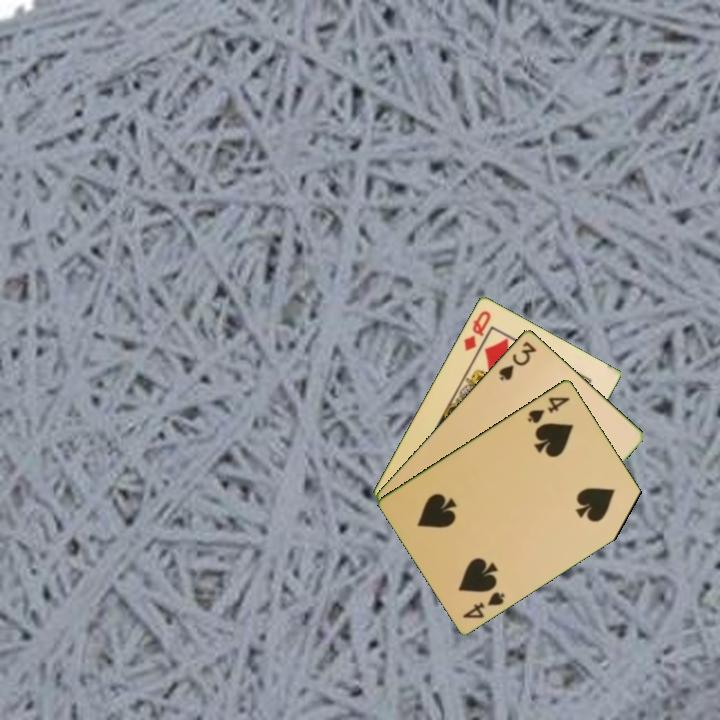3s: (495, 337, 539, 383)
4s: (524, 393, 573, 426), (459, 588, 508, 621)
Qd: (460, 306, 494, 354)
